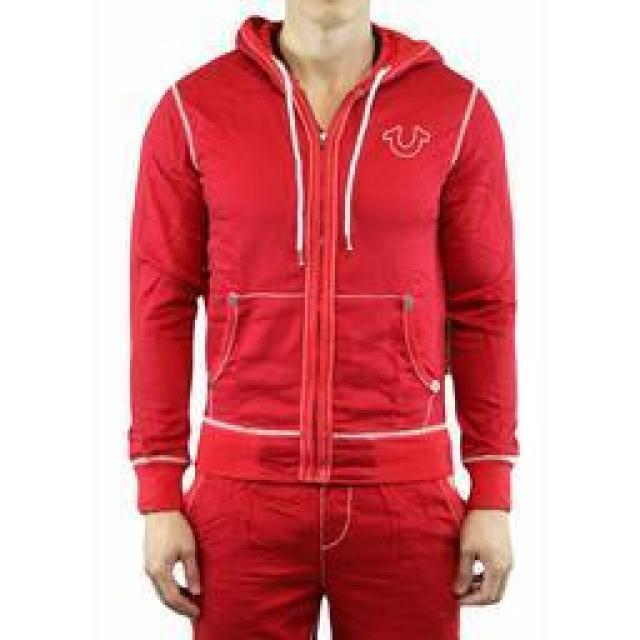sweater: (130, 15, 522, 507)
